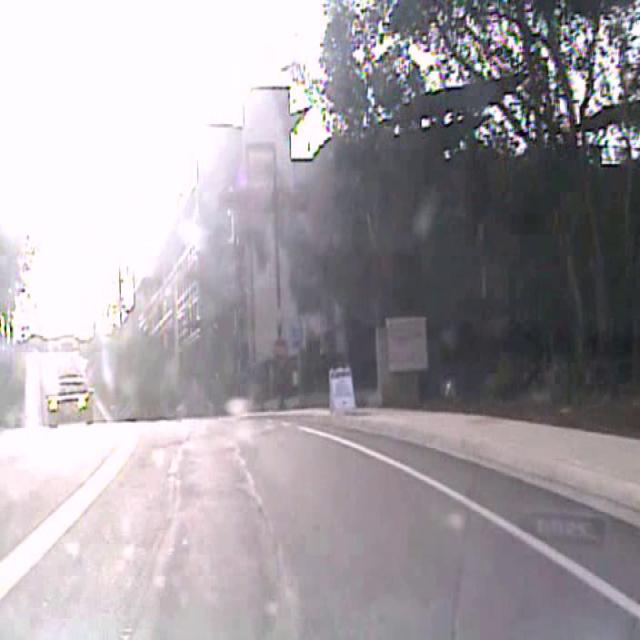stop: (273, 337, 288, 360)
